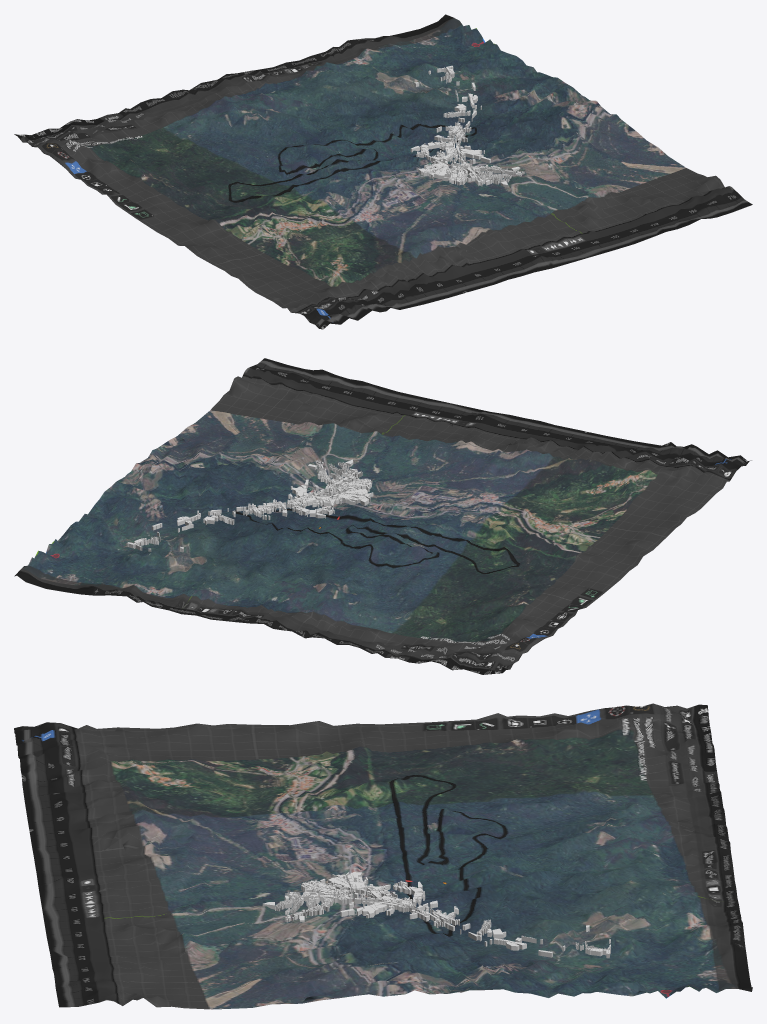
3 views of the same model, one above another, from view 1: azimuth 30°, elevation 25°; view 2: azimuth 150°, elevation 25°; view 3: azimuth 270°, elevation 25° (orthographic). The views are drawn at different scales.
Visible parts, largest first — view 1: EXPORT_GOOGLE_SAT_WM.001, Plane.009; view 2: EXPORT_GOOGLE_SAT_WM.001, Plane.009; view 3: EXPORT_GOOGLE_SAT_WM.001, Plane.009.
Boxes of the visible parts, <box> form: EXPORT_GOOGLE_SAT_WM.001: <box>14,14,752,329</box>; Plane.009: <box>410,65,524,187</box>; EXPORT_GOOGLE_SAT_WM.001: <box>14,358,751,674</box>; Plane.009: <box>126,459,373,552</box>; EXPORT_GOOGLE_SAT_WM.001: <box>14,703,752,1009</box>; Plane.009: <box>262,872,610,958</box>.
Bounding box in the file's own units: 6492 × 6241 × 198.
Materials: 2 (1 with a texture image).
